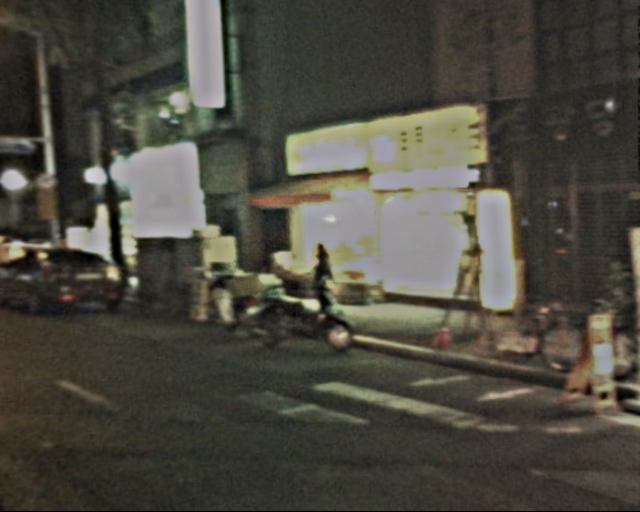person: (297, 238, 339, 321)
